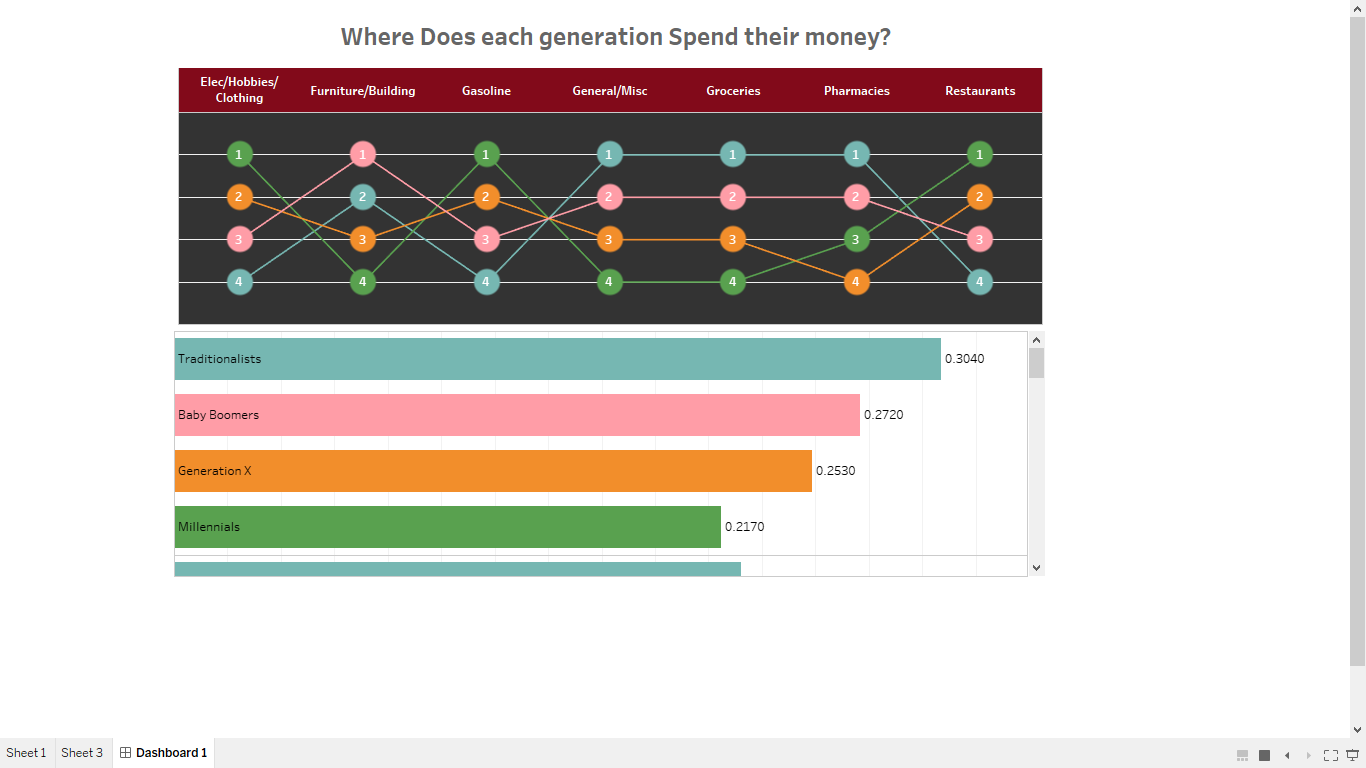

The page's visual inventory and layout, read from the dashboard file:
{"tool":"tableau","page":{"name":"Dashboard 1","canvas":[1000,800],"ordinal":0},"visuals":[{"type":"worksheet","box":[5,10,873,51]},{"type":"worksheet","title":"Sheet 1","mark":"Line","cols":["Category"],"box":[4,68,865,257]},{"type":"worksheet","title":"Sheet 3","mark":"Bar","rows":["Category","Generation"],"cols":["% of Spending","% of Spending"],"box":[0,331,871,246]}]}

Visuals, with their boxes on the page's 1000x800 design canvas (x1, y1, x2, y2). These are canvas units, not pixel positions in the 1366x768 screenshot, which may show the page scaled, cropped or inside an application window:
worksheet: 5/10/878/61
"Sheet 1" worksheet (Line marks): 4/68/869/325
"Sheet 3" worksheet (Bar marks): 0/331/871/577
